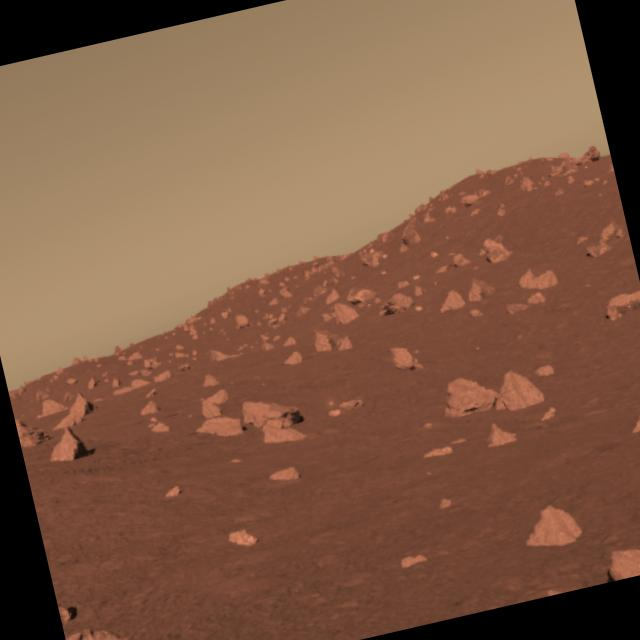rock: (63, 596, 199, 640), (514, 492, 590, 562), (234, 385, 312, 443), (432, 368, 498, 426), (190, 400, 258, 450), (488, 364, 546, 416), (44, 421, 94, 466)
